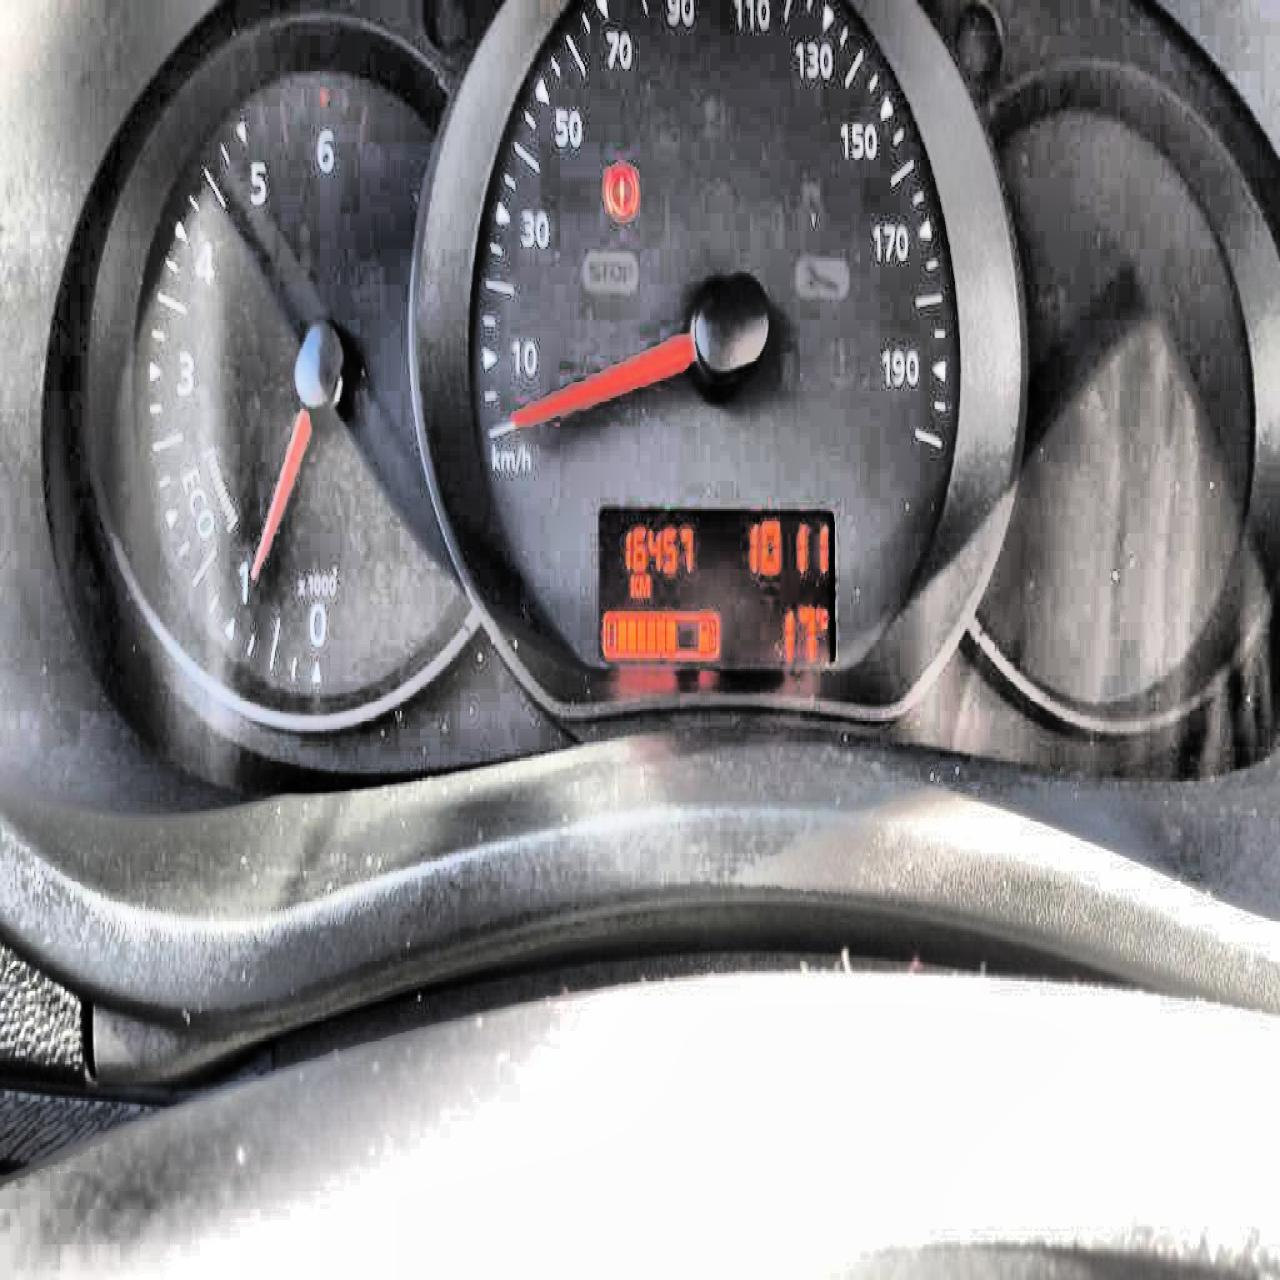0: (760, 518, 779, 571)
1: (796, 523, 805, 573), (783, 610, 792, 660), (818, 525, 826, 571), (749, 523, 757, 568), (624, 529, 629, 567)
4: (646, 529, 660, 568)
5: (661, 526, 675, 571)
6: (631, 527, 645, 568)
7: (797, 605, 813, 660), (680, 526, 692, 571)
X: (638, 573, 648, 595), (631, 573, 638, 598), (818, 610, 826, 627)
odometer: (593, 504, 837, 667)
